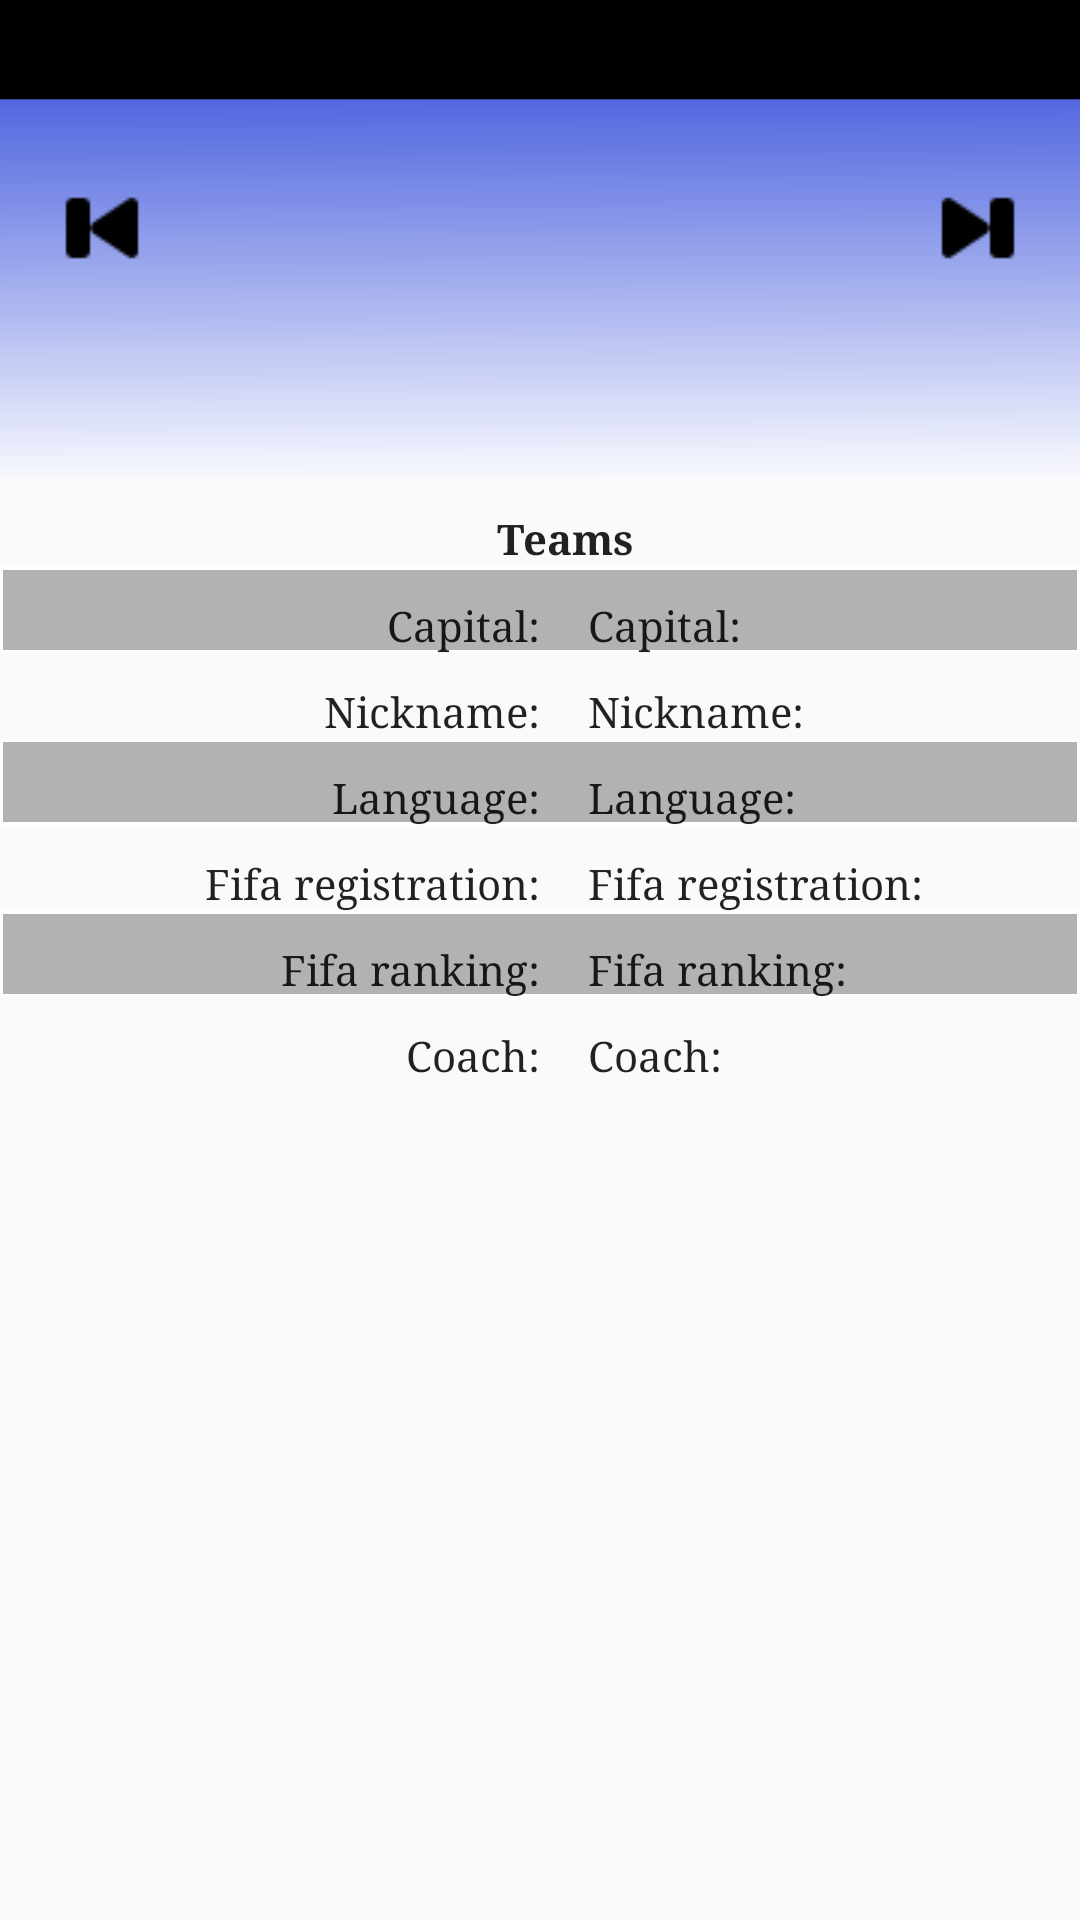

Icons on this 1080x1920 Android screen, each with the point to tap as (x,y):
Next: (978,228)
Previous: (102,228)
